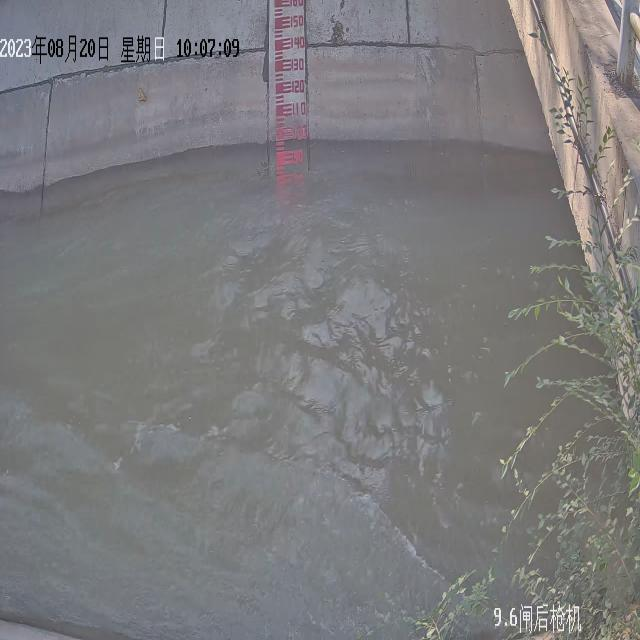ruler: (267, 0, 313, 168)
value: (291, 124, 309, 143), (290, 101, 308, 118), (289, 58, 306, 74), (288, 13, 305, 28), (290, 36, 306, 51), (290, 78, 306, 93), (292, 148, 304, 165), (286, 0, 305, 9)
